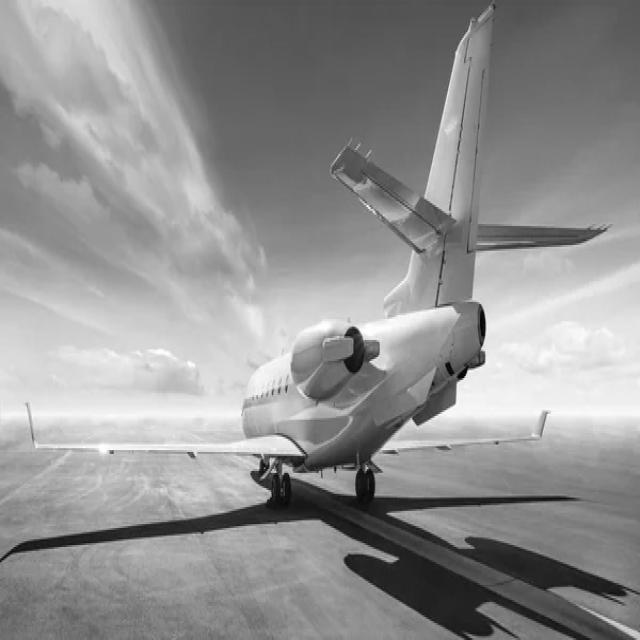Aircraft: (20, 14, 592, 514)
